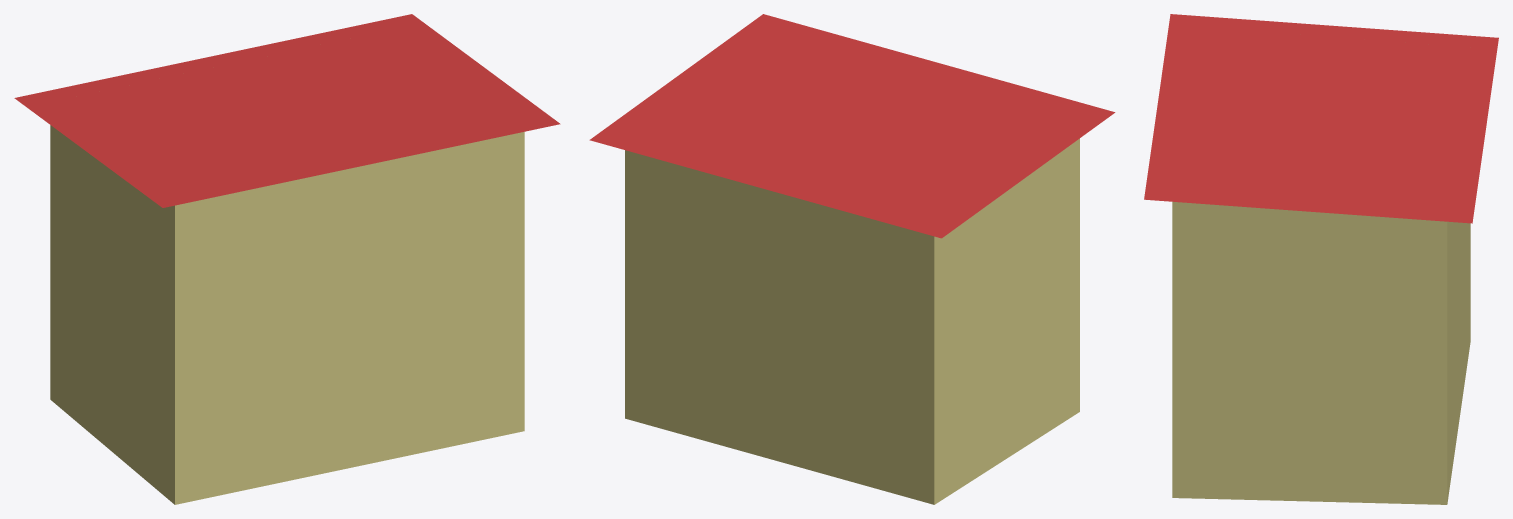
3 views of the same model, side by side, from view 1: azimuth 30°, elevation 25°; view 2: azimuth 150°, elevation 25°; view 3: azimuth 270°, elevation 25° (orthographic). The views are drawn at different scales.
Bounding box in the file's own units: 8.55 × 6.61 × 6.35.
